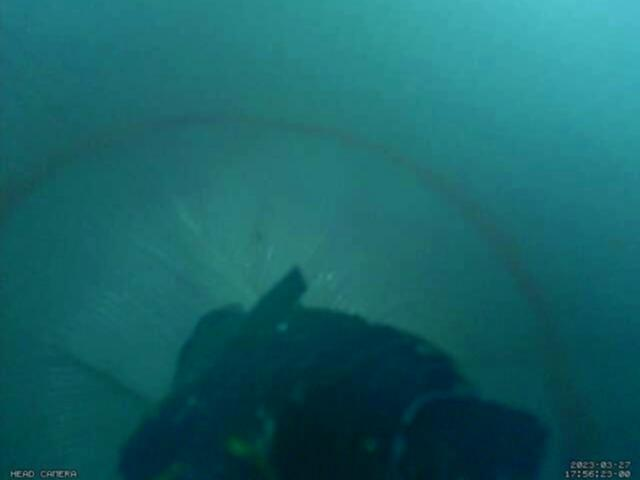head: (1, 110, 574, 480)
